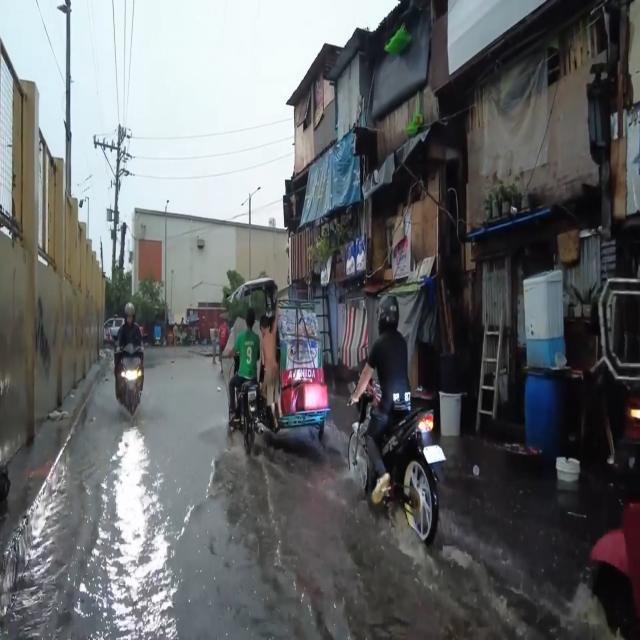full: (376, 292, 399, 333)
half: (124, 302, 135, 328)
